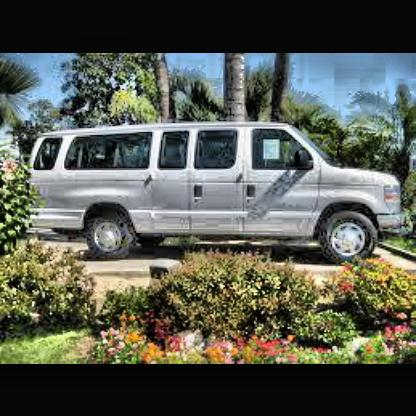Ford E-Series Wagon Van 2012: (22, 117, 413, 282)
